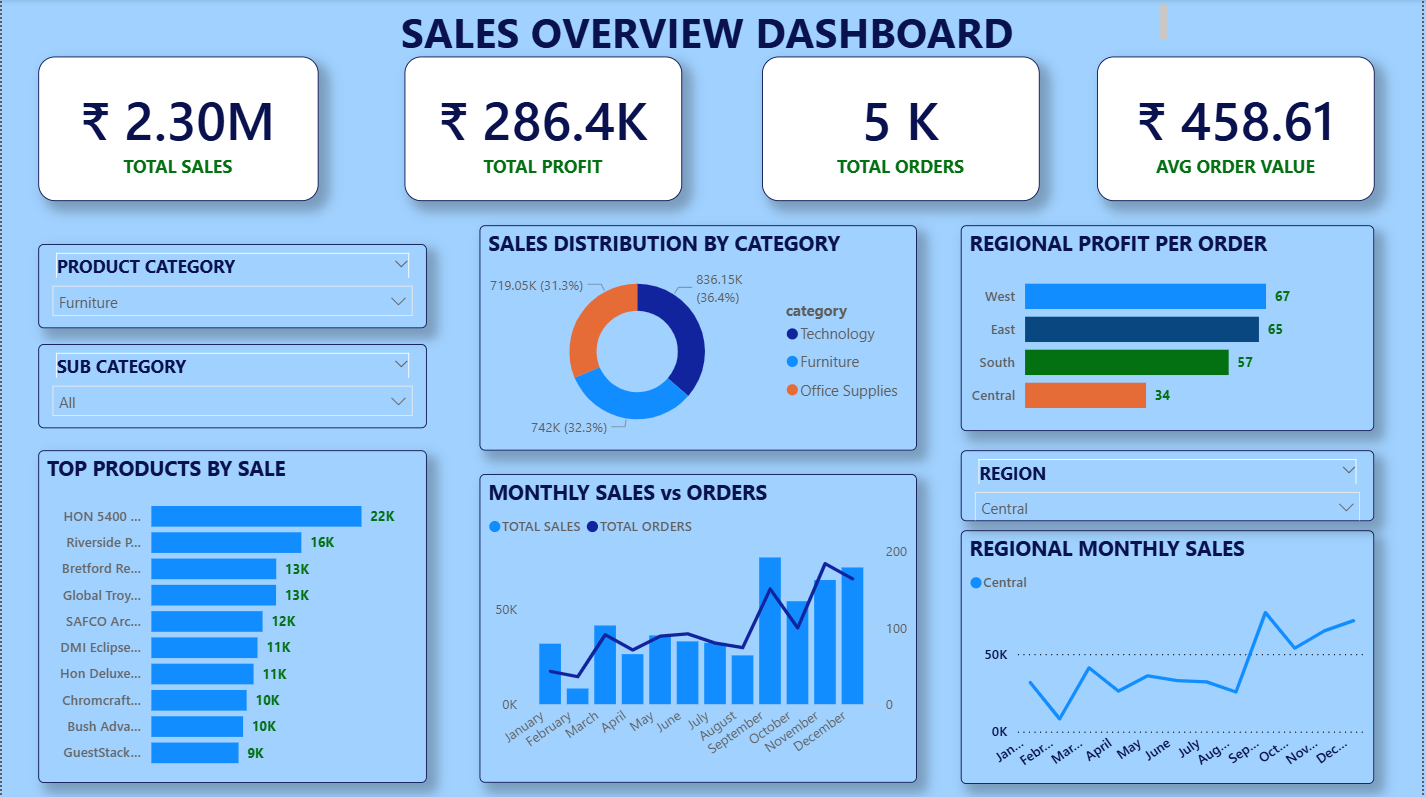

What the dashboard file says about the page in this screenshot:
{"tool":"powerbi","page":{"name":"Page 1","canvas":[1280,720],"ordinal":0},"visuals":[{"type":"textbox","box":[222.9,0,832.9,50],"z":0},{"type":"cardVisual","title":"TOTAL SALES ","fields":{"Data":["Sum(public orders_summary.total_sales)"]},"box":[32.9,51.4,252.9,130],"z":1000},{"type":"cardVisual","title":"TOTAL SALES ","fields":{"Data":["Sum(public orders_summary.total_profit)"]},"box":[362.9,51.4,250,130],"z":2000},{"type":"cardVisual","title":"TOTAL SALES ","fields":{"Data":["public orders_summary.RoundedDistinctOrders"]},"box":[685.7,51.4,250,130],"z":3000},{"type":"cardVisual","title":"TOTAL SALES ","fields":{"Data":["public orders_summary.Average Order Value"]},"box":[987.1,51.4,250,130],"z":4000},{"type":"clusteredBarChart","title":"TOP PRODUCTS BY SALE ","fields":{"Category":["public top_products.product_name"],"Y":["Sum(public top_products.total_sales)"]},"box":[32.9,407.1,350,300],"z":5000},{"type":"slicer","fields":{"Values":["public top_products.category"]},"box":[32.9,221.4,350,75.7],"z":6000},{"type":"slicer","fields":{"Values":["public top_products.sub_category"]},"box":[32.9,311.4,350,75.7],"z":7000},{"type":"lineChart","title":"REGIONAL MONTHLY SALES ","fields":{"Category":["public regional_sales.order_month.Variation.Date Hierarchy.Month"],"Y":["Sum(public regional_sales.total_sales)"],"Series":["public regional_sales.region"]},"box":[864.3,478.6,372.9,228.6],"z":8000},{"type":"slicer","fields":{"Values":["public regional_sales.region"]},"box":[864.3,407.1,372.9,64.3],"z":9000},{"type":"clusteredBarChart","title":"REGIONAL PROFIT PER ORDER","fields":{"Category":["public orders_summary.region"],"Y":["public orders_summary.Avg Profit per Order"]},"box":[864.3,204.3,372.9,185.7],"z":10000},{"type":"donutChart","title":"SALES DISTRIBUTION BY CATEGORY","fields":{"Category":["public top_products.category"],"Y":["Sum(public top_products.total_sales)"]},"box":[430,204.3,394.3,202.9],"z":10001},{"type":"lineClusteredColumnComboChart","title":"MONTHLY SALES vs ORDERS","fields":{"Category":["public regional_sales.order_month.Variation.Date Hierarchy.Month"],"Y":["Sum(public regional_sales.total_sales)"],"Y2":["Sum(public regional_sales.total_orders)"]},"box":[430,428.6,394.3,278.6],"z":10002}]}

Visuals, with their boxes in screenshot pixels (x1, y1, x2, y2), scaled from the page's 1280x720 canvas onto the 1426x797 screenshot:
textbox: [248,0,1176,55]
"TOTAL SALES " cardVisual: [37,57,318,201]
"TOTAL SALES " cardVisual: [404,57,683,201]
"TOTAL SALES " cardVisual: [764,57,1042,201]
"TOTAL SALES " cardVisual: [1100,57,1378,201]
"TOP PRODUCTS BY SALE " clusteredBarChart: [37,451,427,783]
slicer - public top_products.category: [37,245,427,329]
slicer - public top_products.sub_category: [37,345,427,428]
"REGIONAL MONTHLY SALES " lineChart: [963,530,1378,783]
slicer - public regional_sales.region: [963,451,1378,522]
"REGIONAL PROFIT PER ORDER" clusteredBarChart: [963,226,1378,432]
"SALES DISTRIBUTION BY CATEGORY" donutChart: [479,226,918,451]
"MONTHLY SALES vs ORDERS" lineClusteredColumnComboChart: [479,474,918,783]
